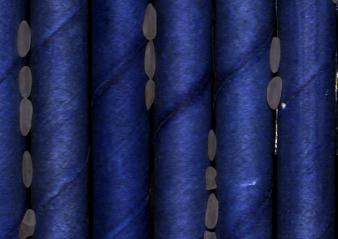broken_grain: (204, 166, 220, 192)
complete_grain: (14, 19, 33, 61), (263, 75, 284, 111), (203, 192, 221, 231), (141, 3, 159, 41), (142, 40, 158, 81), (16, 65, 35, 99), (19, 97, 34, 136), (269, 35, 282, 75), (20, 149, 33, 188), (206, 128, 218, 161)
milky_broken_grain: (17, 206, 38, 239)
yellow_grain: (142, 79, 156, 110)
